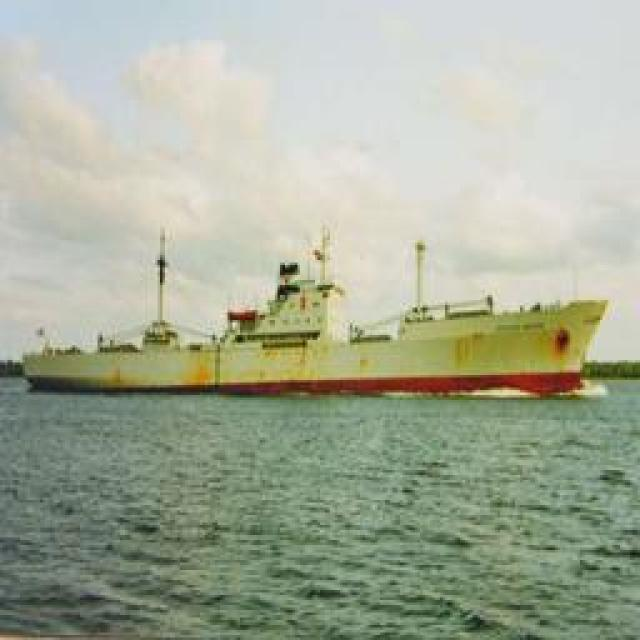CIV_Ship: (30, 274, 592, 398)
